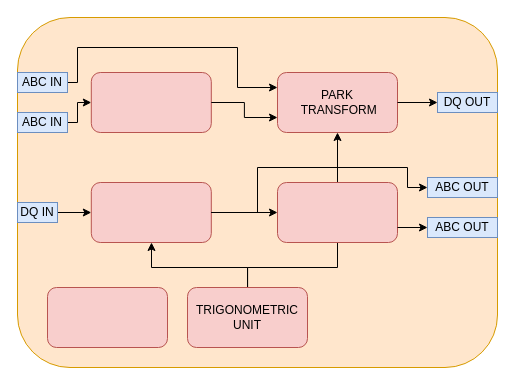
The diagram is 515 pixels wide and 385 high, and some of its shapes have lost their labels. The centre of each missing label's shape, as x and y in pixels:
"CLARKE TRANSFORM" goes at point 150,102.
"CONTROL UNIT" goes at point 107,317.
"INVERSE CLARKE TRANSFORM" goes at point 337,212.
"INVERSE PARK TRANSFORM" goes at point 150,212.
